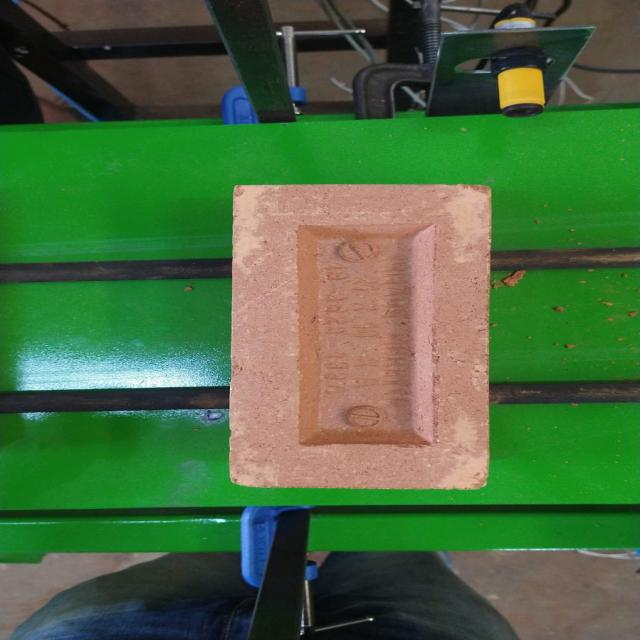bricks: (230, 186, 488, 490)
